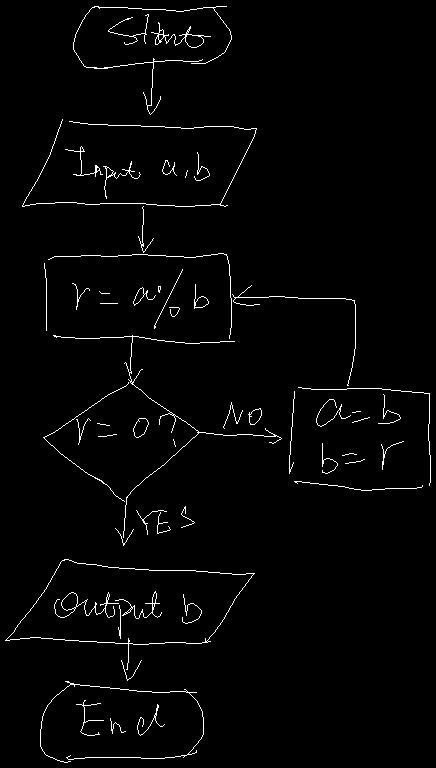arrow: (232, 285, 355, 385), (197, 428, 281, 443), (143, 58, 160, 114), (115, 496, 133, 545), (124, 335, 142, 383), (121, 638, 141, 680), (138, 206, 153, 252)
data: (5, 559, 254, 644), (22, 119, 256, 206)
decision: (43, 379, 199, 501)
process: (44, 253, 234, 343), (289, 387, 430, 490)
terminator: (40, 681, 203, 762), (73, 6, 231, 68)
text: (72, 269, 208, 328), (65, 146, 209, 198), (54, 591, 201, 638), (316, 394, 403, 473), (108, 14, 210, 47), (76, 413, 175, 446), (76, 700, 164, 735), (136, 506, 194, 534), (223, 402, 261, 428)
